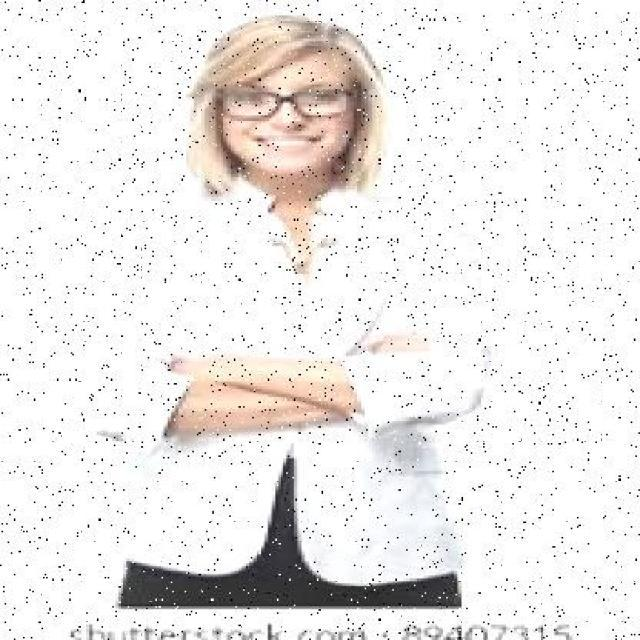mask: (188, 77, 360, 128)
